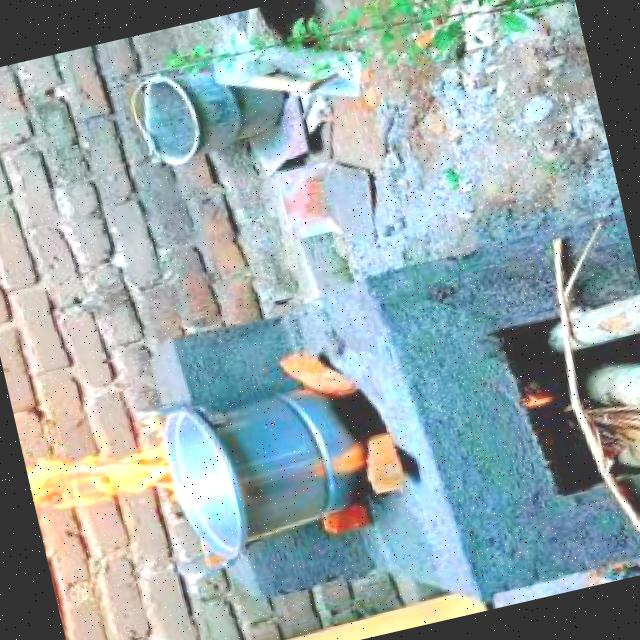fire: (20, 405, 204, 533), (292, 437, 380, 493), (505, 386, 558, 418)
